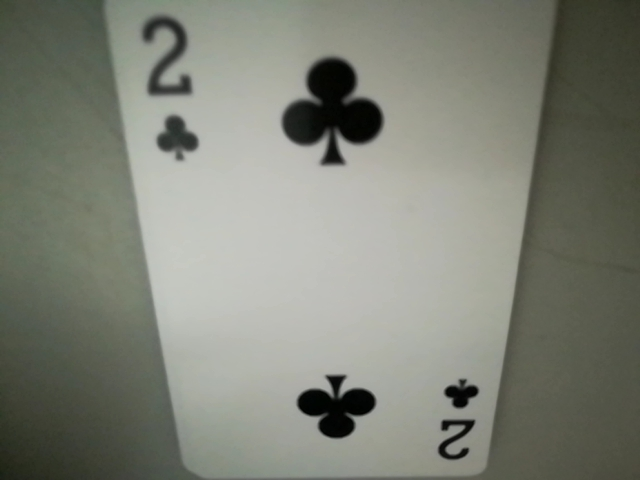mh 2: (123, 4, 206, 172), (431, 373, 489, 467)
